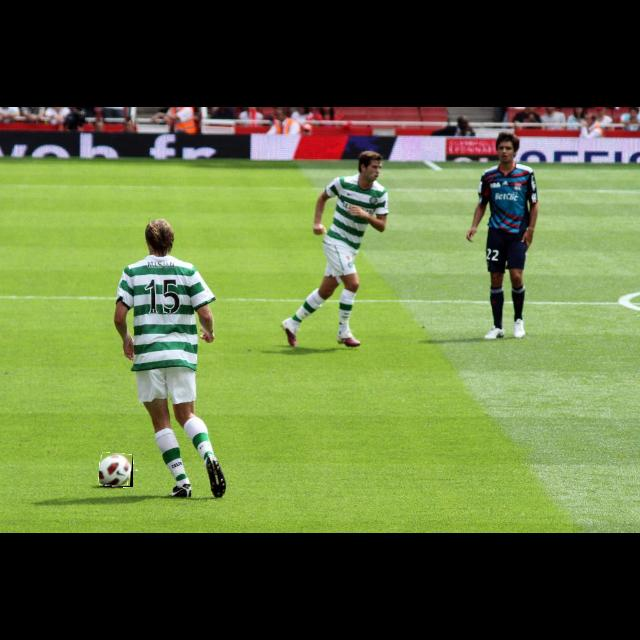Football: (99, 453, 133, 487)
